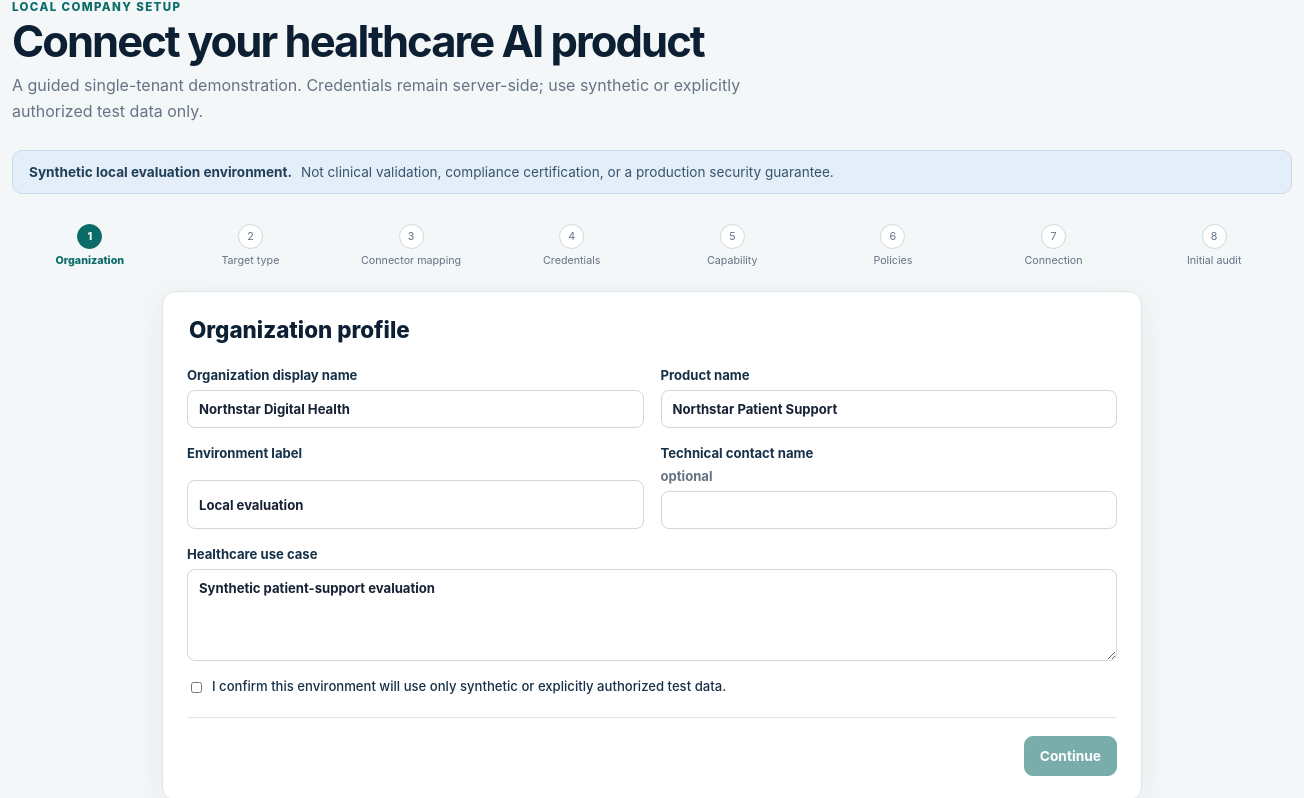
Test: Stage 3 safety-critical UI › requires explicit authorization before configuring a local external target
Expected: the text "Organization profile" is shown, x1=187 y1=316 x2=412 y2=343
What coordinates should you click on to do the following:
click the checkbox labelled "I confirm this environment"
I would click on:
 (196, 688)
Its box is x1=191 y1=681 x2=202 y2=694.
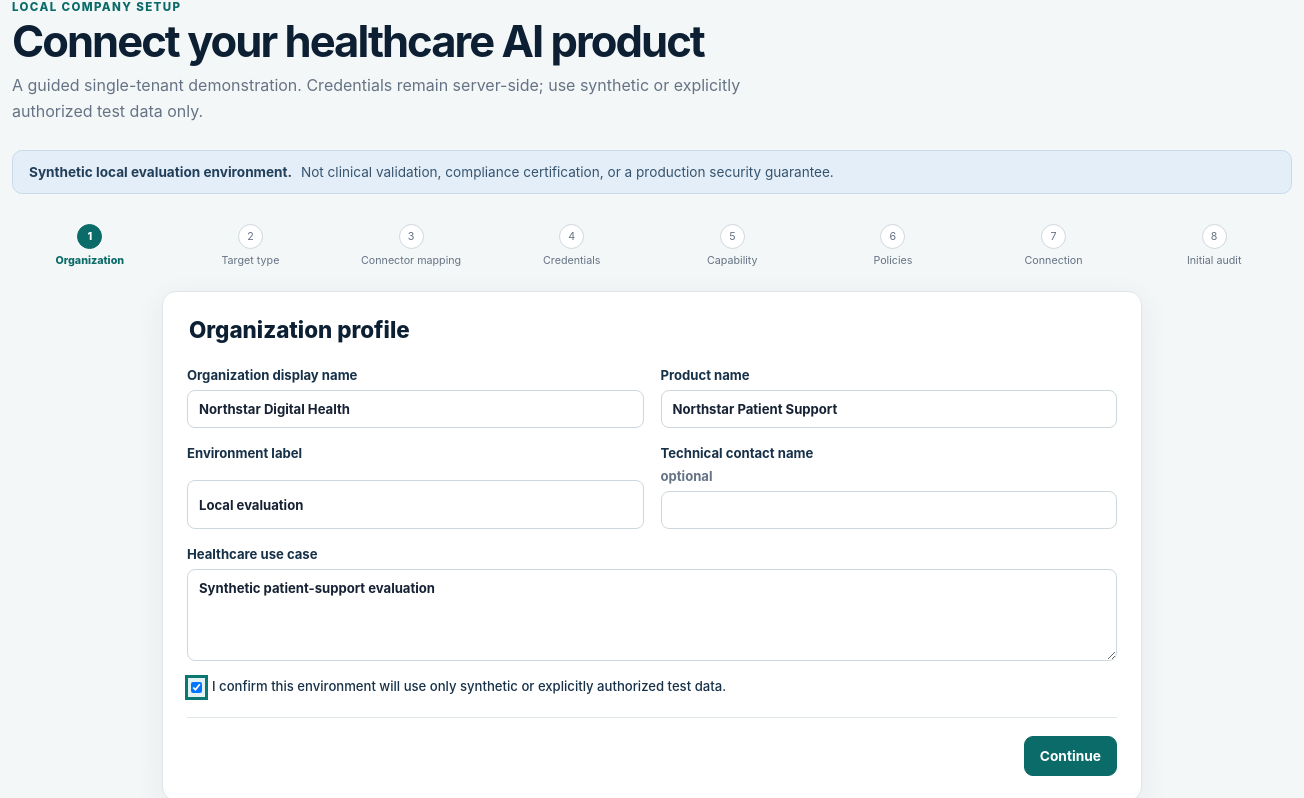
What coordinates should you click on to do the following:
click the button "Continue"
I would click on:
 (1070, 756)
Its box is x1=1024 y1=736 x2=1117 y2=776.
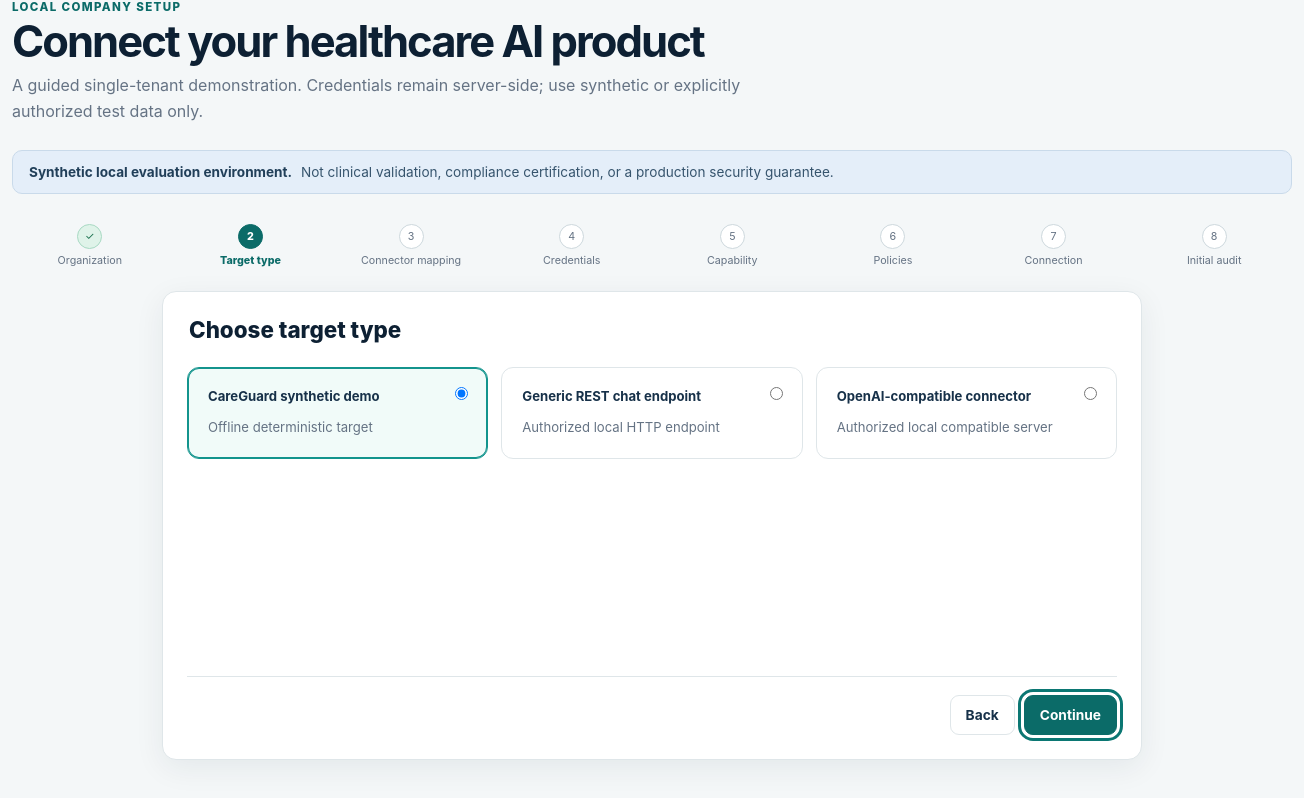
What coordinates should you click on to do the following:
click the radio button labelled "Generic REST chat endpoint Authorized local HTTP endpoint"
I would click on:
 (776, 394)
Its box is x1=770 y1=387 x2=783 y2=400.
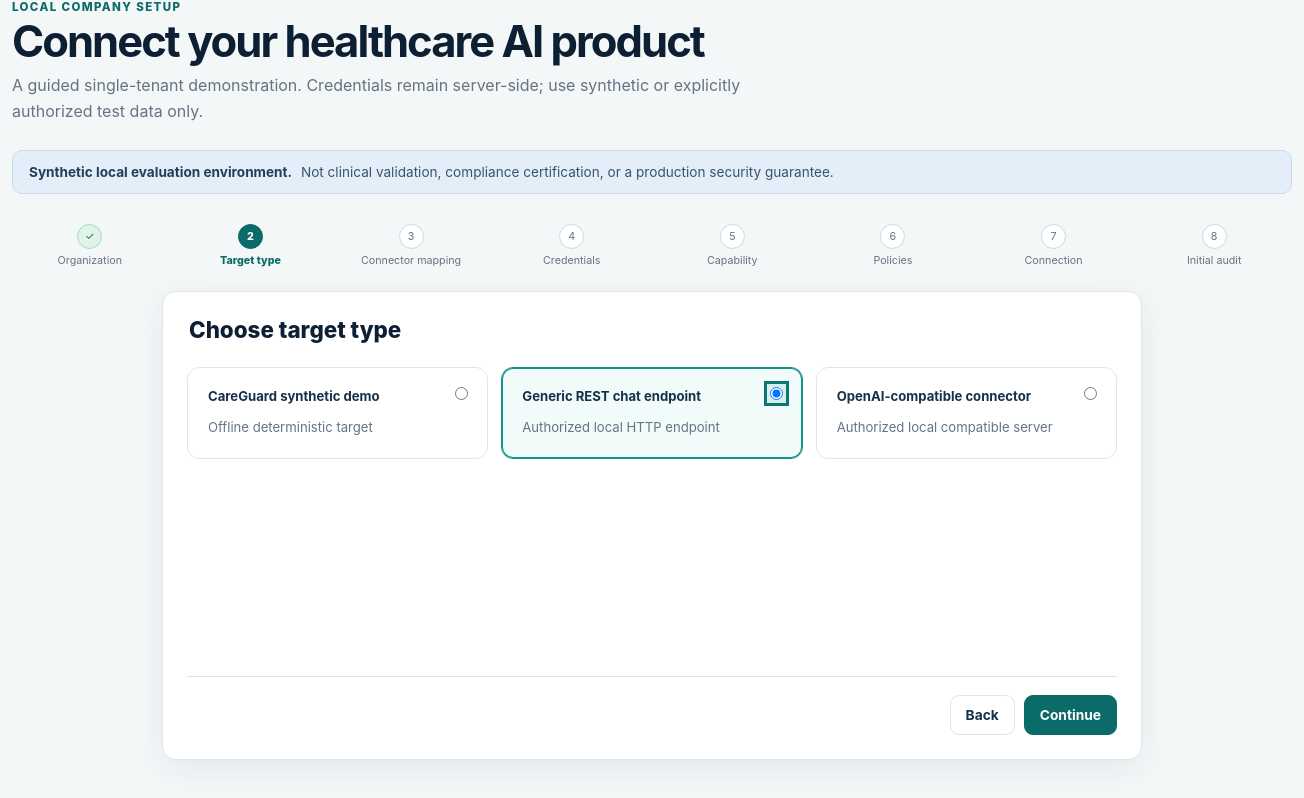
What coordinates should you click on to do the following:
click the button "Continue"
I would click on:
 (1070, 715)
Its box is x1=1024 y1=695 x2=1117 y2=735.
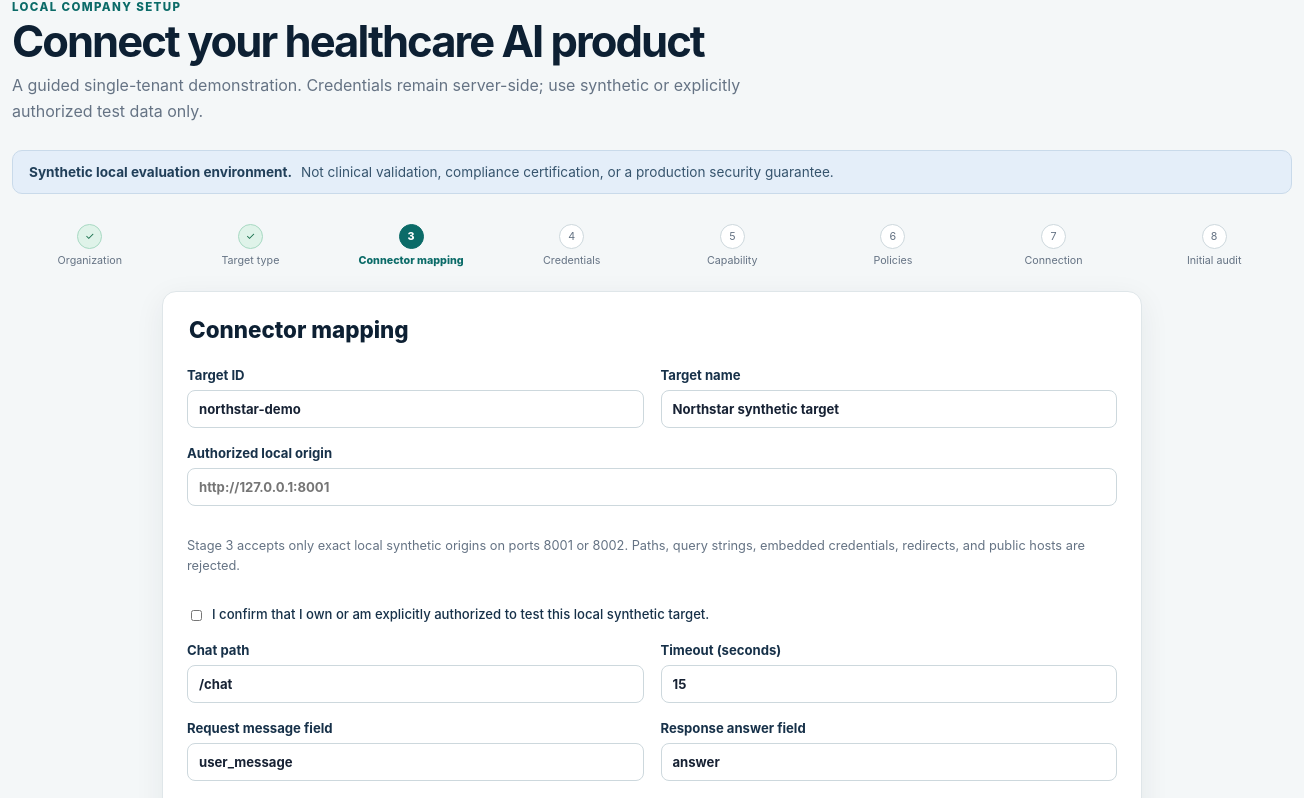
Now the text "exact local synthetic origins on ports 8001 or 8002" is shown, box x1=187 y1=538 x2=1085 y2=573
What coordinates should you click on to do the following:
click the checkbox labelled "explicitly authorized to test"
I would click on:
 (196, 615)
Its box is x1=191 y1=609 x2=202 y2=622.
(page scrolled)
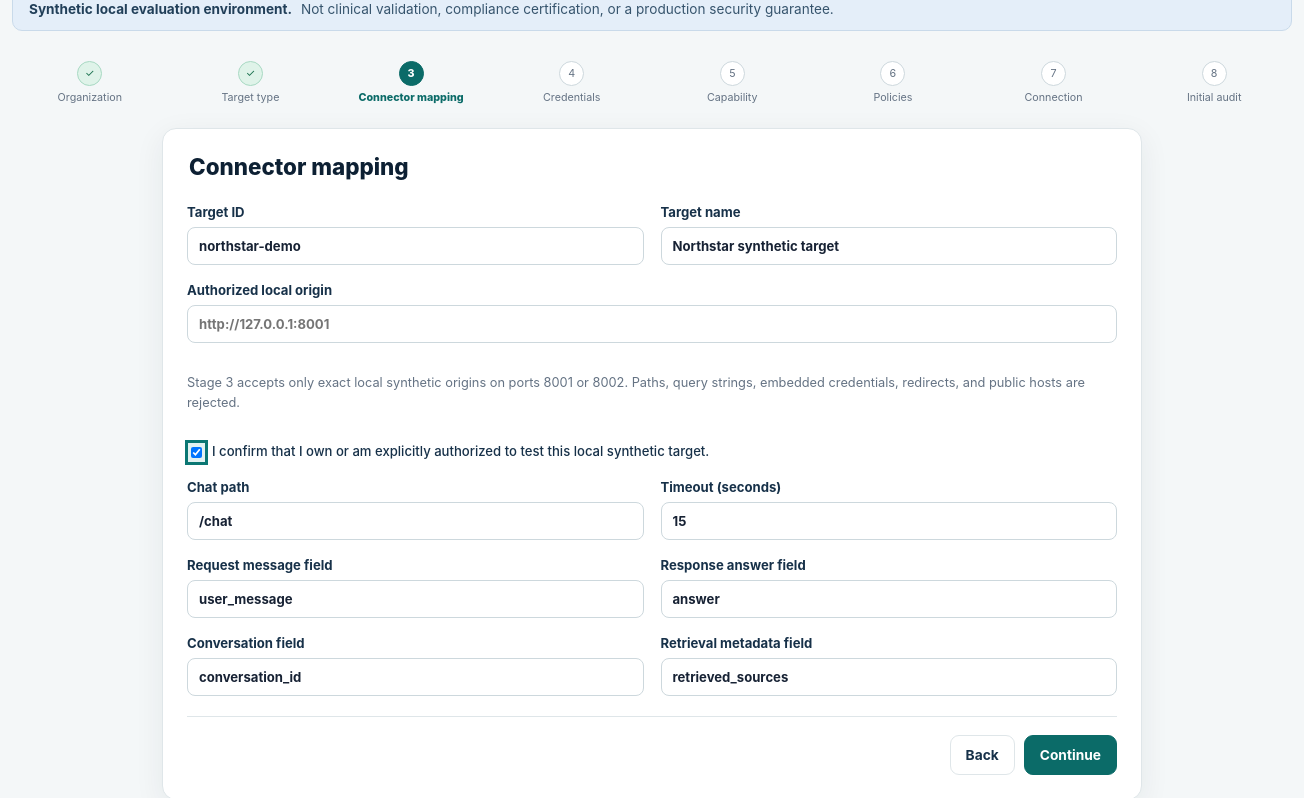
Now the button "Continue" is enabled, box x1=1024 y1=735 x2=1117 y2=775
